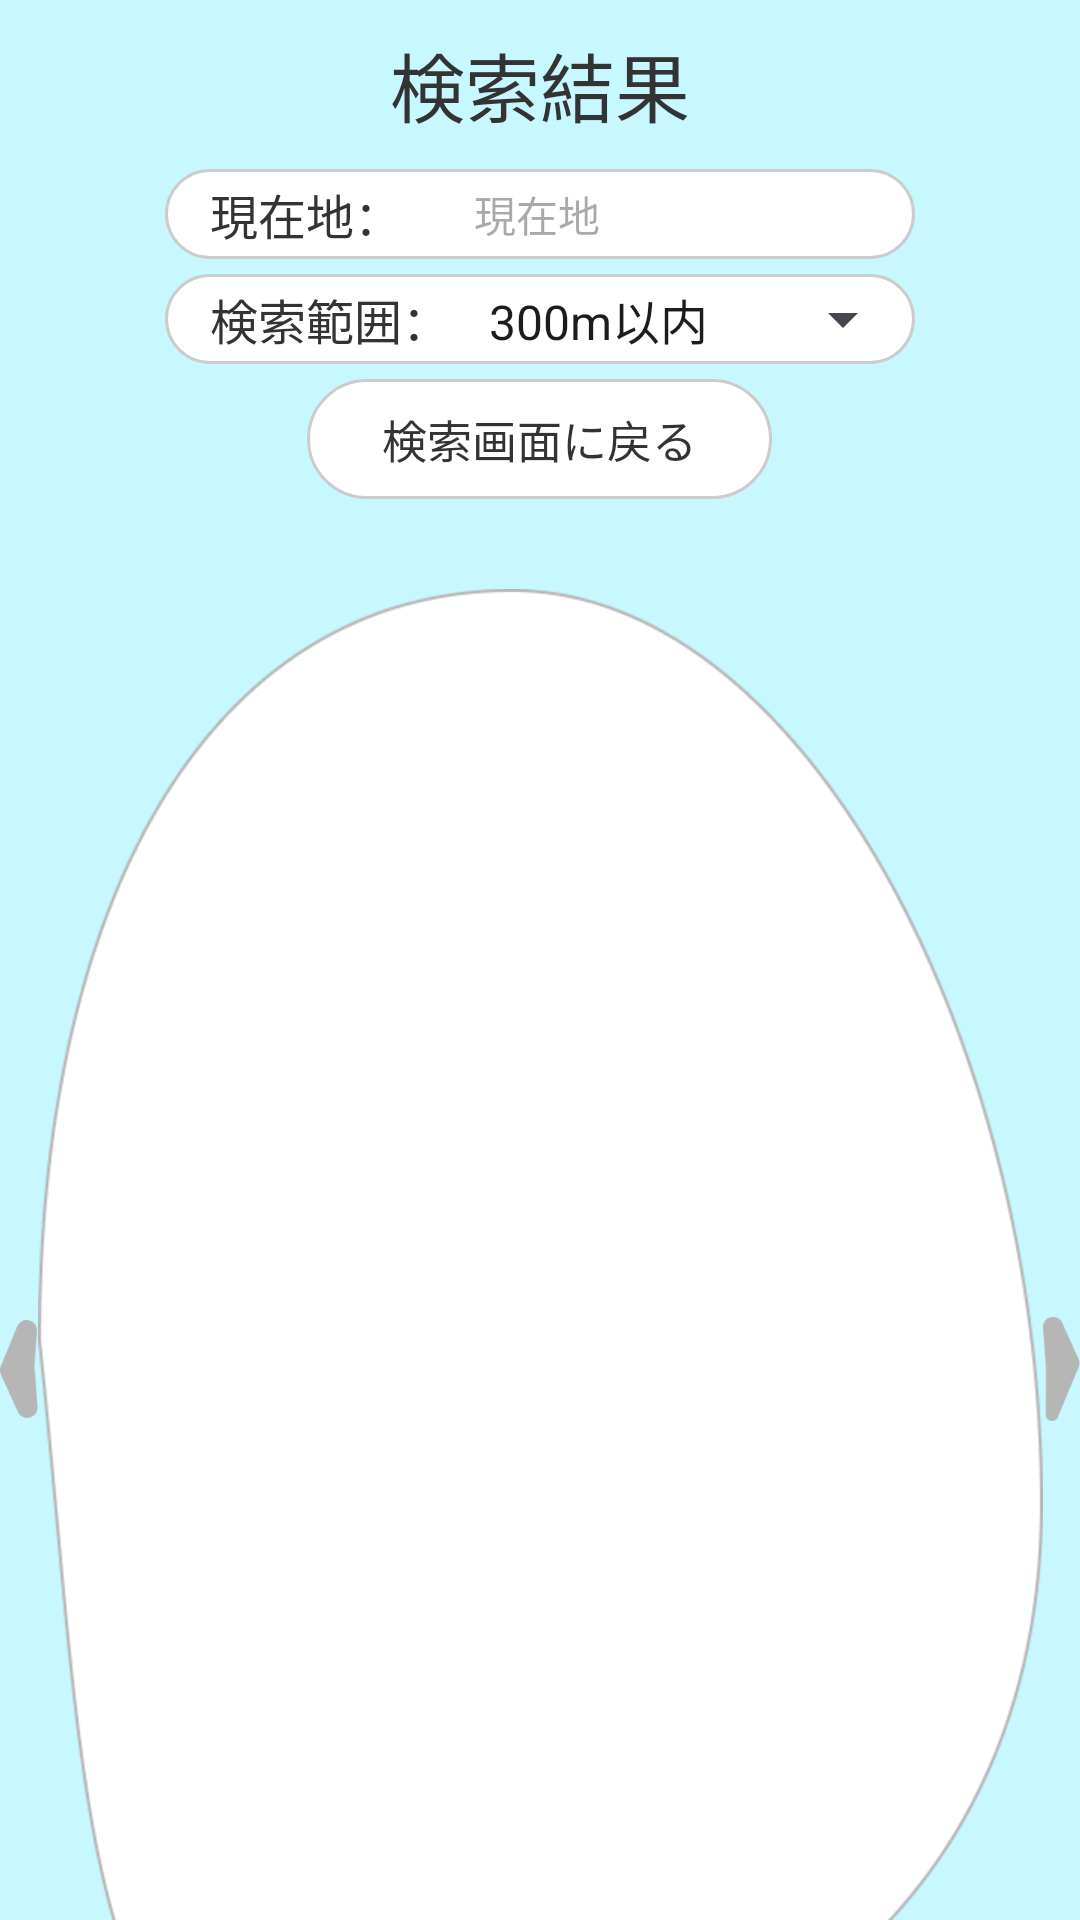

Named icons in this screenshot (1080 x 1920) and their bounding boxes, (left=x1, top=y1, right=x2, bottom=y2):
left: (left=0, top=1320, right=38, bottom=1418)
right: (left=1043, top=1317, right=1080, bottom=1421)
